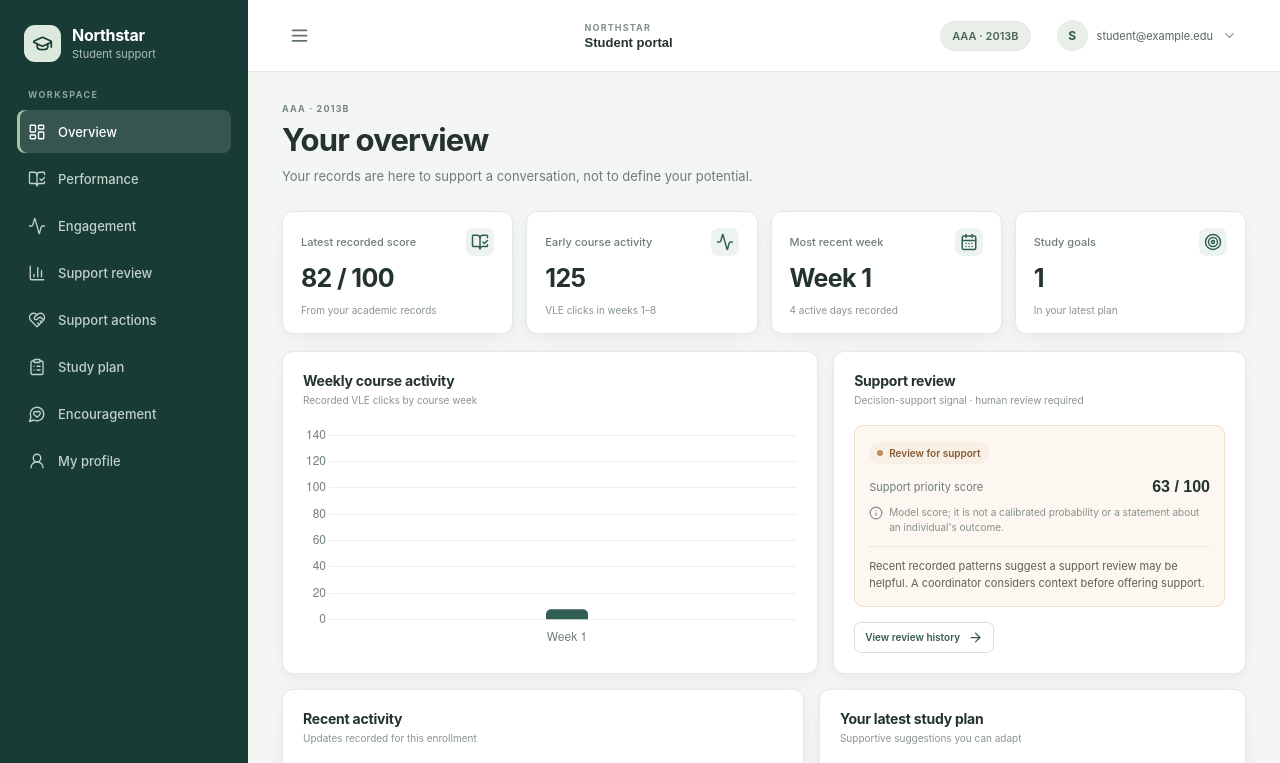
student and coordinator frontend flows › opens the Study plan page from student navigation and loads its data
Click the link "Study plan".
click(76, 366)  # box [28, 358, 124, 376]
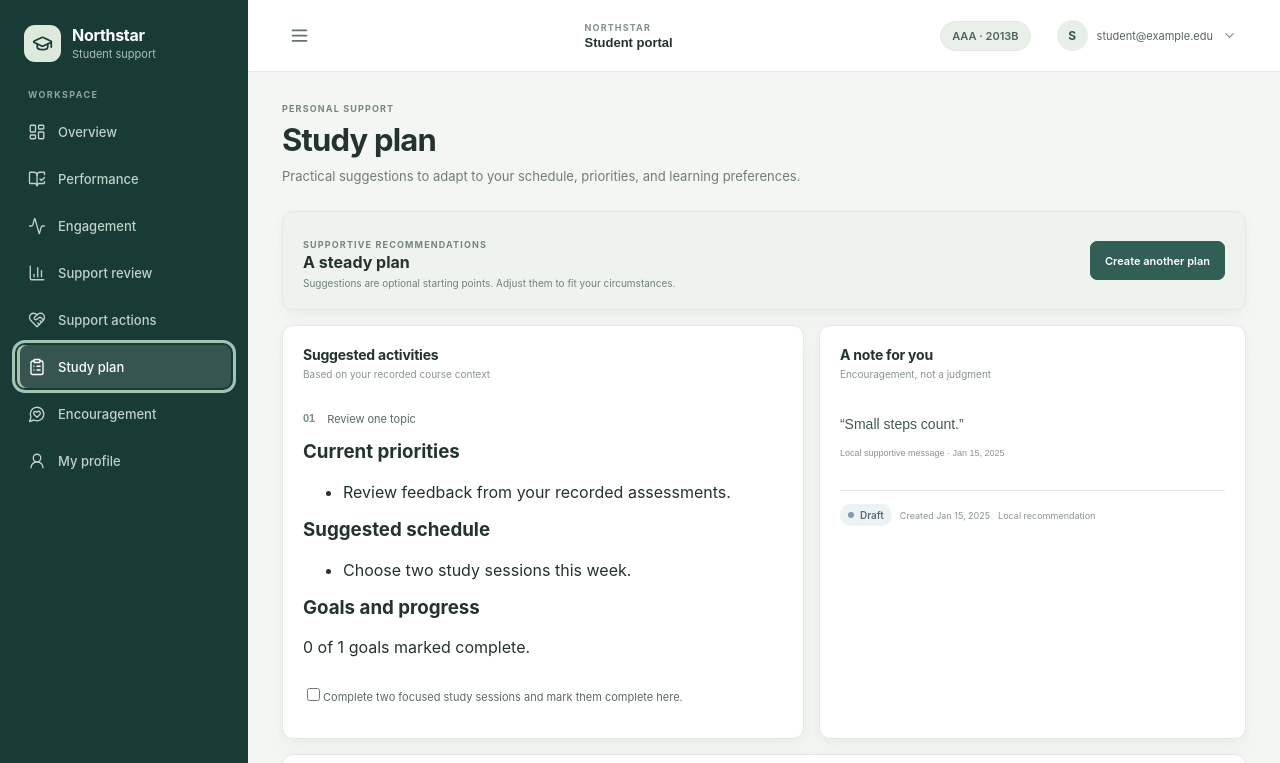
Check: the heading "Study plan" is shown, box [282, 121, 436, 158]
